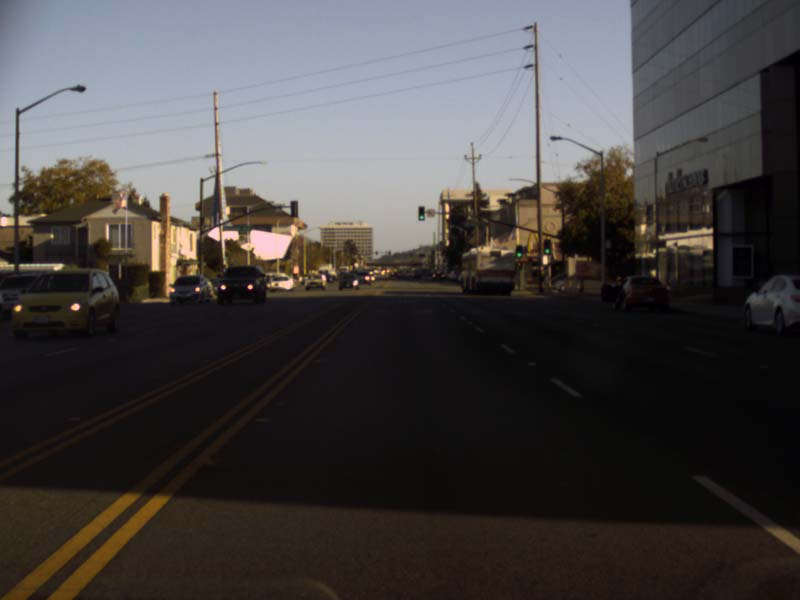Green: (544, 239, 551, 254), (418, 206, 425, 220), (515, 244, 522, 257)
